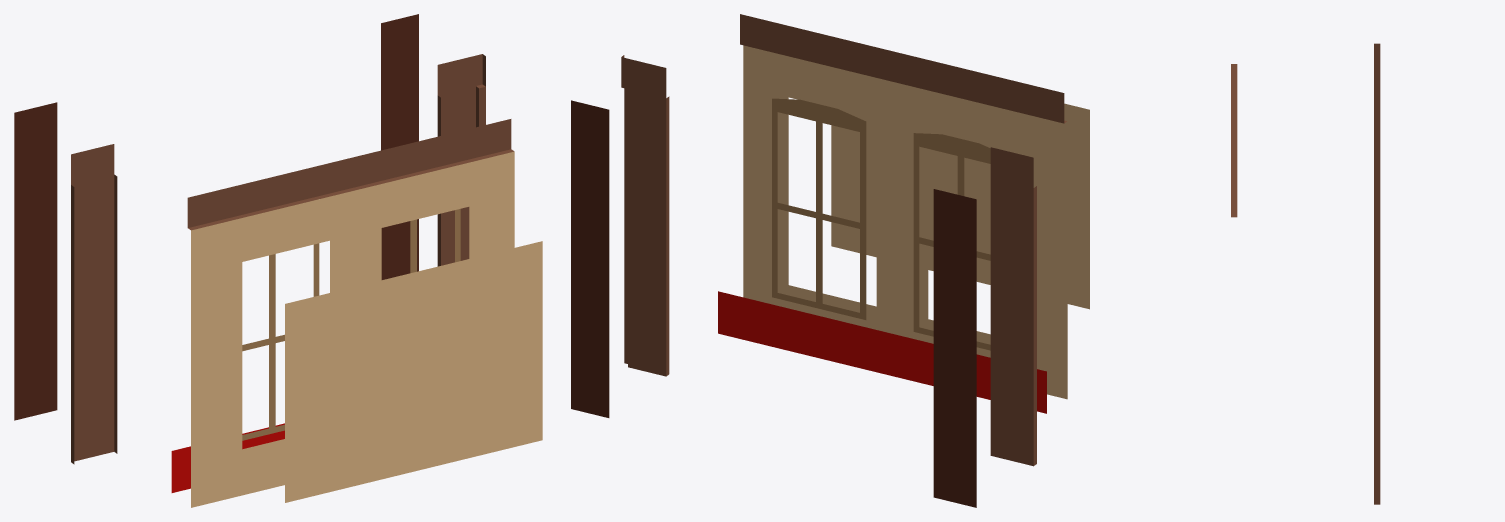
The model's file is candy_building_bottom.fbx.
3 views of the same model, side by side, from view 1: azimuth 30°, elevation 25°; view 2: azimuth 150°, elevation 25°; view 3: azimuth 270°, elevation 25° (orthographic). The views are drawn at different scales.
Visible parts, largest first — view 1: candy_building_bottom; view 2: candy_building_bottom; view 3: candy_building_bottom.
Part boxes in pixels (x1,y1,x2,y2): candy_building_bottom: (14,14,542,507); candy_building_bottom: (571,14,1089,507); candy_building_bottom: (1231,43,1380,504).
Bounding box in the file's own units: 610 × 436 × 492.
